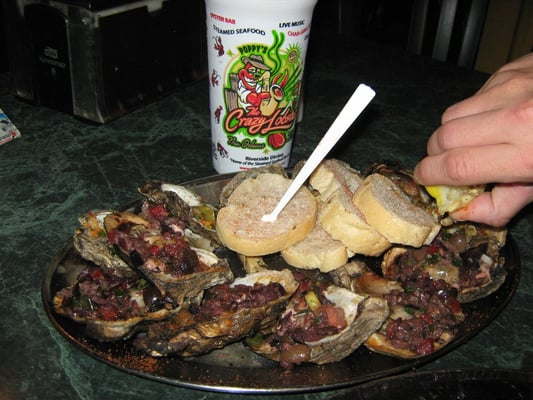pizza: (204, 0, 320, 174)
salad: (266, 82, 377, 221)
sandwich: (266, 81, 377, 223)
